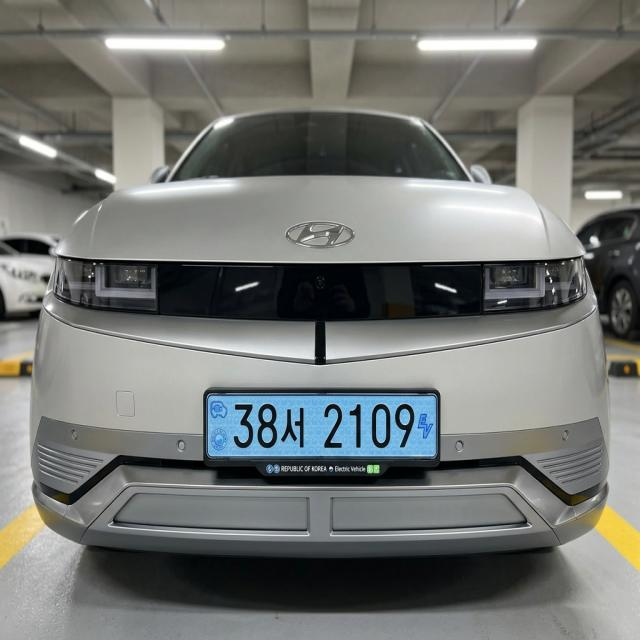car: (189, 372, 456, 501)
carev: (205, 396, 233, 458), (414, 396, 437, 455)
